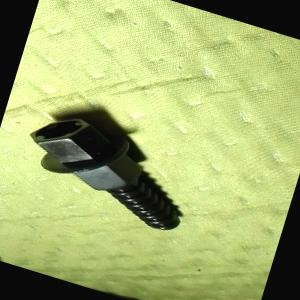parafuso: (14, 102, 204, 236)
